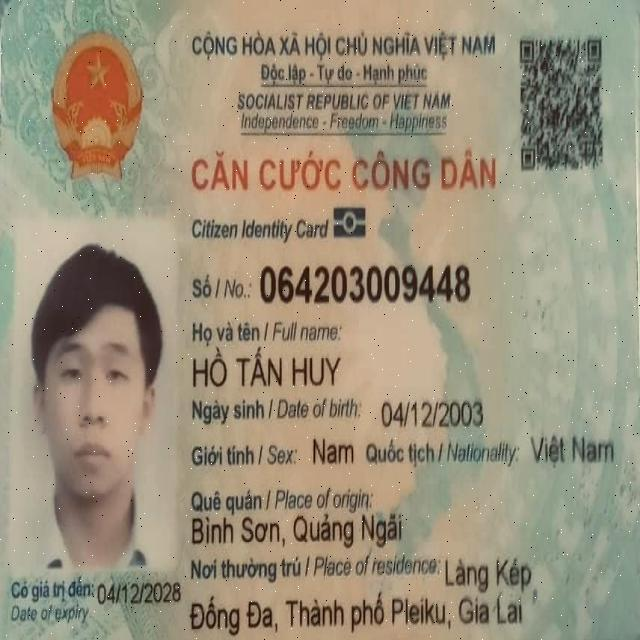current_place: (189, 589, 524, 640), (444, 554, 533, 594)
dob: (379, 396, 484, 433)
expire_date: (96, 579, 182, 607)
gender: (311, 437, 355, 468)
id: (256, 259, 473, 309)
name: (190, 343, 344, 394)
nationality: (529, 432, 615, 470)
origin_place: (191, 510, 404, 550)
